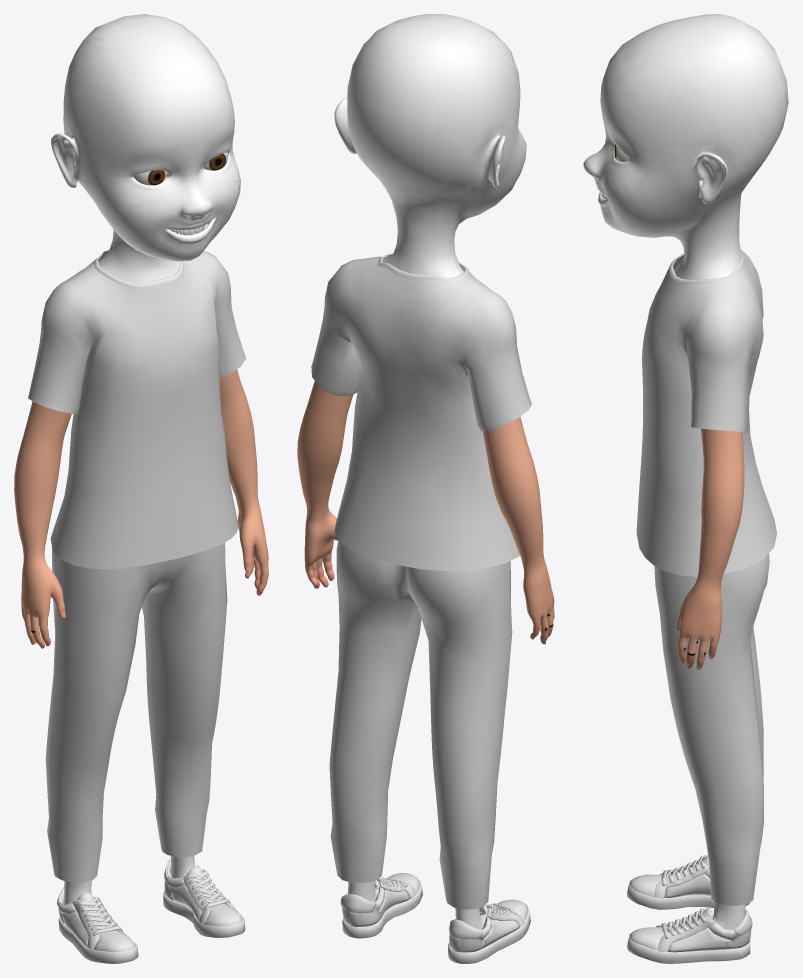
Rendered from Happy.fbx.
3 views of the same model, side by side, from view 1: azimuth 30°, elevation 25°; view 2: azimuth 150°, elevation 25°; view 3: azimuth 270°, elevation 25° (orthographic).
Visible parts, largest first — view 1: tshirt_low, body_low, pant_low, back_low, body_low.001; view 2: tshirt_low, body_low, pant_low, back_low, body_low.001; view 3: body_low, tshirt_low, pant_low, back_low, body_low.001.
Boxes of the visible parts, <box> form: tshirt_low: <box>28,250,246,569</box>; body_low: <box>14,14,268,904</box>; pant_low: <box>45,542,227,882</box>; back_low: <box>57,859,245,963</box>; body_low.001: <box>64,20,217,147</box>; tshirt_low: <box>311,253,531,571</box>; body_low: <box>297,20,554,929</box>; pant_low: <box>329,539,512,909</box>; back_low: <box>340,873,530,963</box>; body_low.001: <box>371,14,512,194</box>; body_low: <box>583,14,788,929</box>; tshirt_low: <box>636,250,776,576</box>; pant_low: <box>654,553,769,905</box>; back_low: <box>626,855,752,963</box>; body_low.001: <box>618,15,751,196</box>.
Size of the model in its own units: 19.39 by 70.4 by 14.51.
4 materials, 1 textured.
